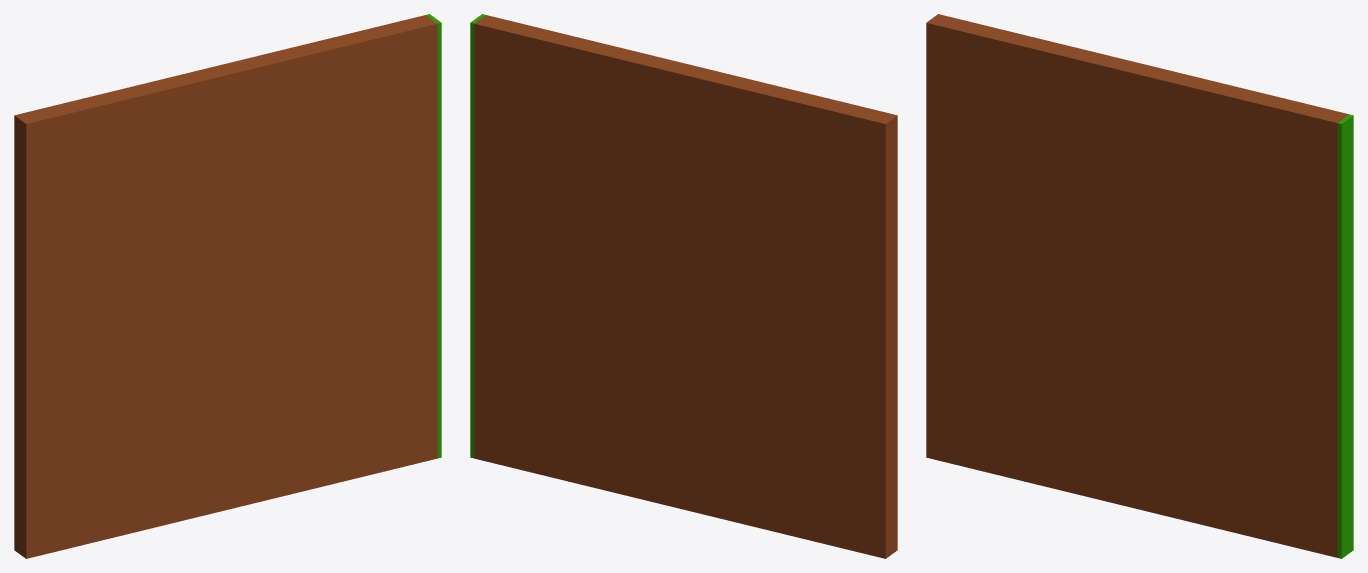
File: BigTile.FBX
3 views of the same model, side by side, from view 1: azimuth 30°, elevation 25°; view 2: azimuth 150°, elevation 25°; view 3: azimuth 330°, elevation 25° (orthographic).
Visible parts, largest first — view 1: BigTile; view 2: BigTile; view 3: BigTile.
Part boxes in pixels (bbox=[...]): BigTile: bbox=[14, 14, 441, 558]; BigTile: bbox=[470, 14, 897, 558]; BigTile: bbox=[926, 14, 1353, 558].
Size of the model in its own units: 10 by 10 by 0.5.
